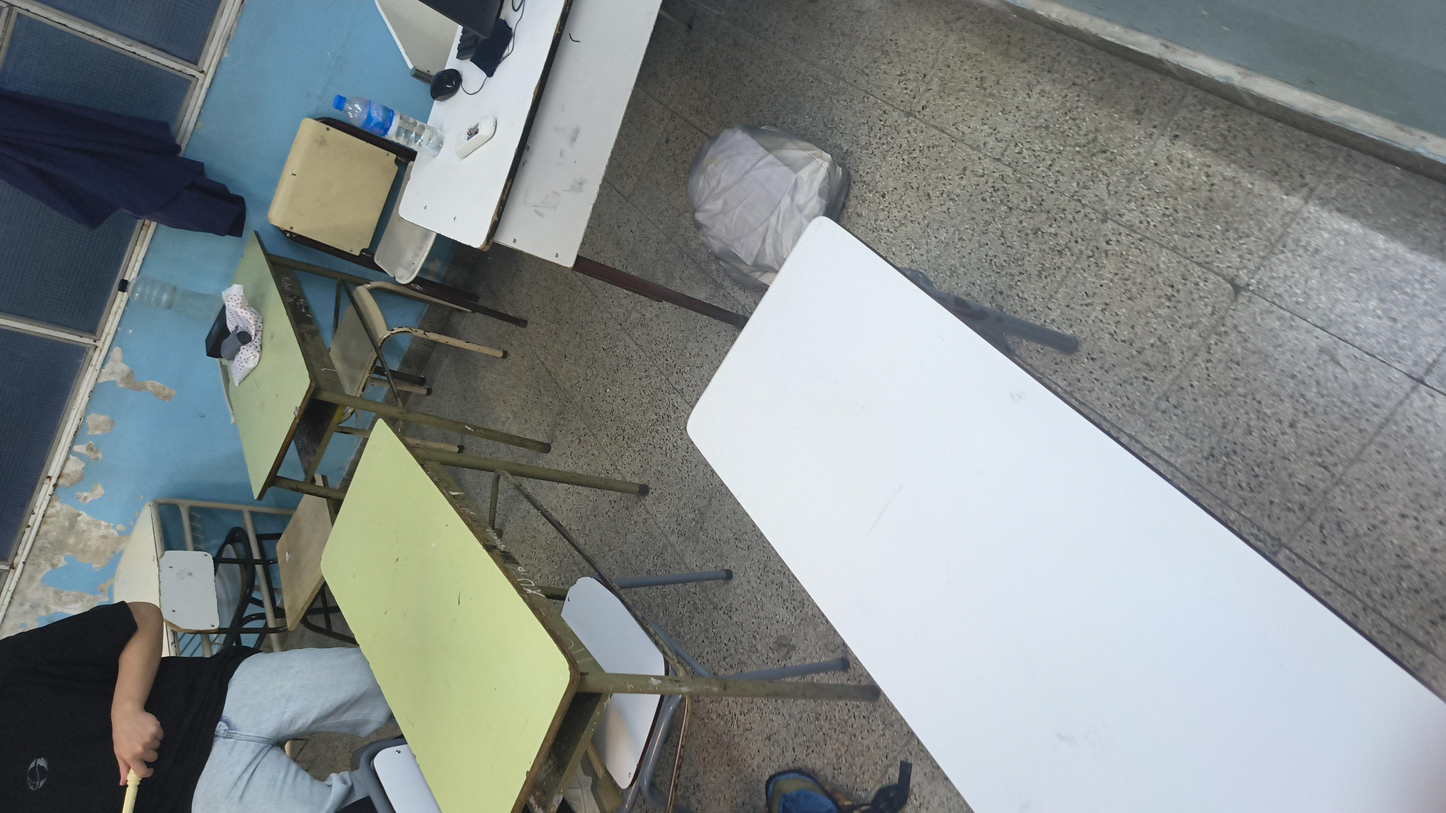Garbage: (935, 365, 1299, 500)
